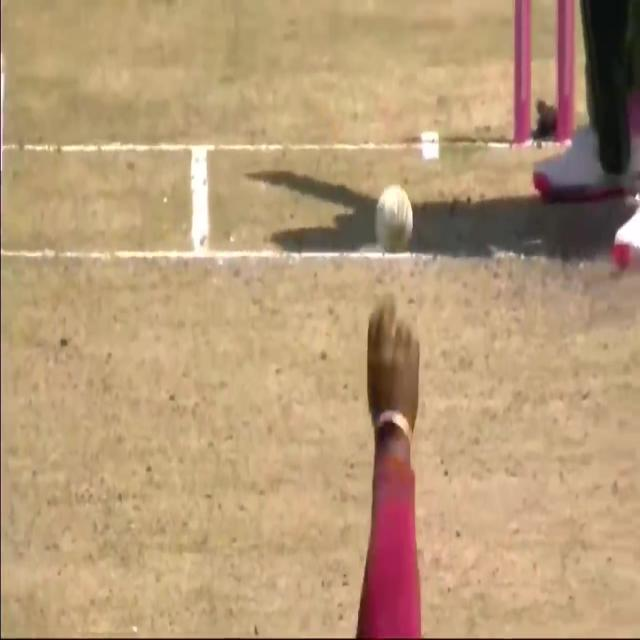Batsman: (367, 179, 418, 255)
